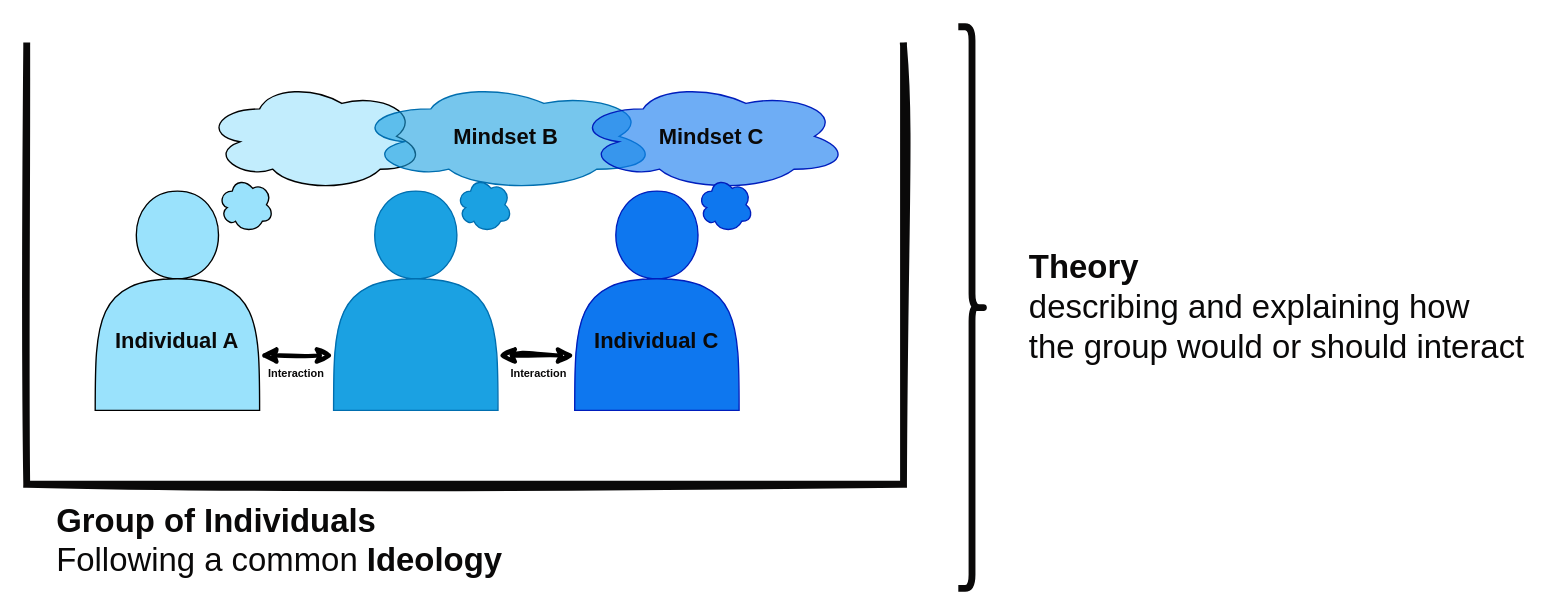
This 1558x615 diagram has some shape labels left out. The box of each missing label's shape, as (x1, y1, x2, y2) in pixels:
Individual B: (332, 190, 498, 410)
Mindset A: (203, 80, 424, 191)
